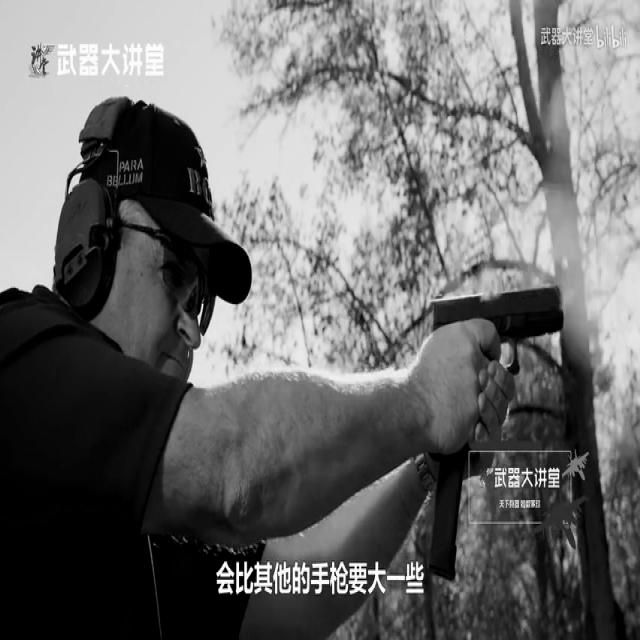Hand-Gun: (417, 258, 604, 590)
